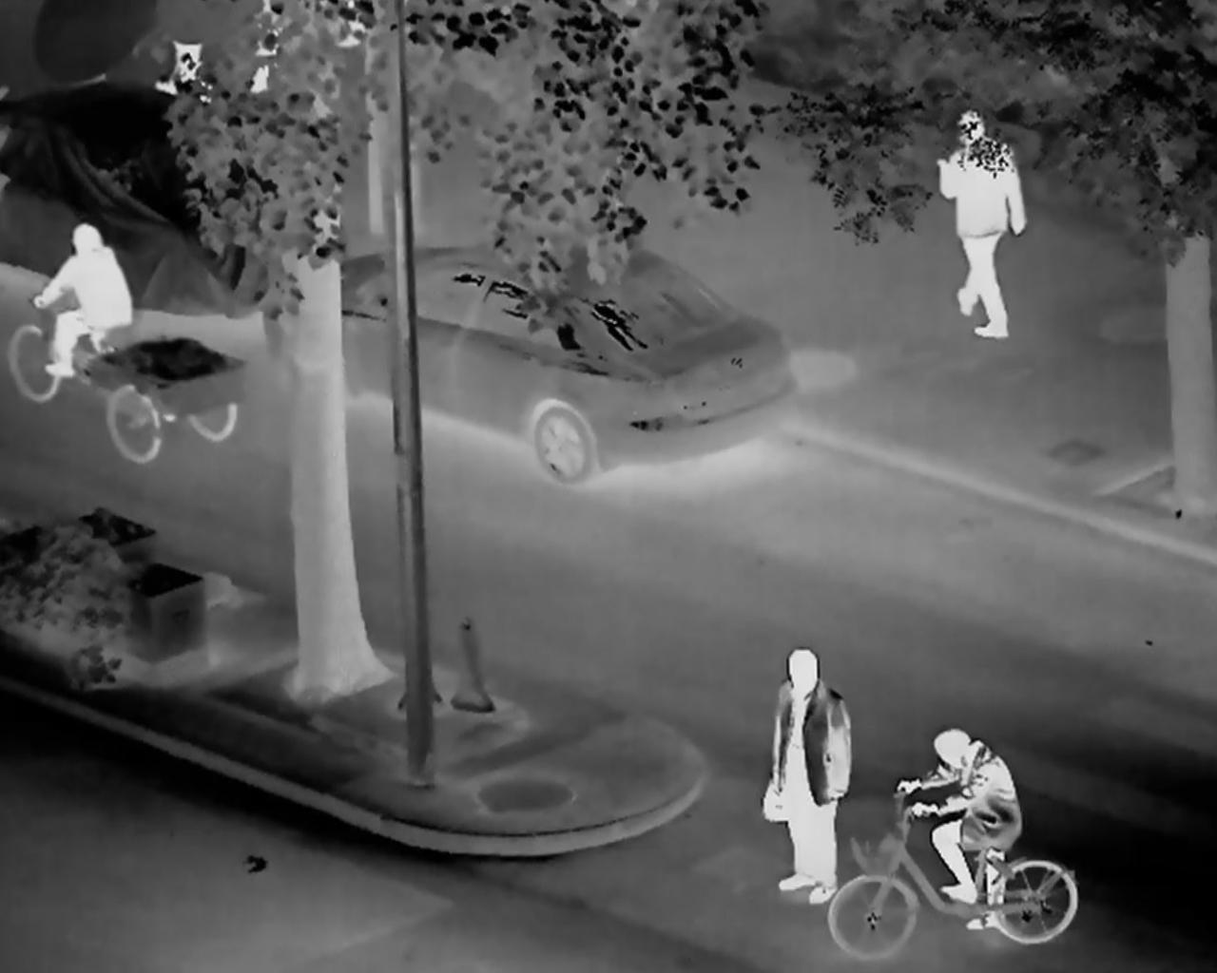person: (895, 726, 1020, 931), (765, 648, 853, 901), (937, 110, 1025, 340), (33, 221, 133, 375)
